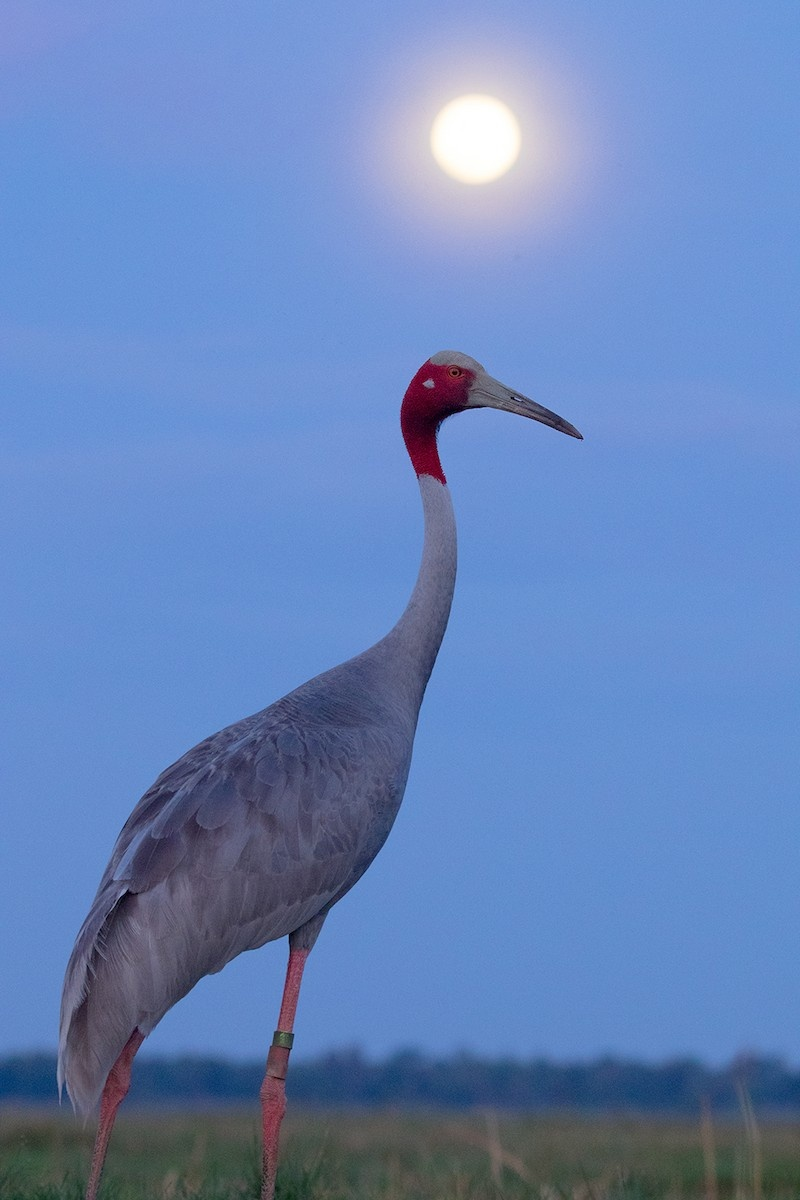crane: (46, 347, 596, 1196)
